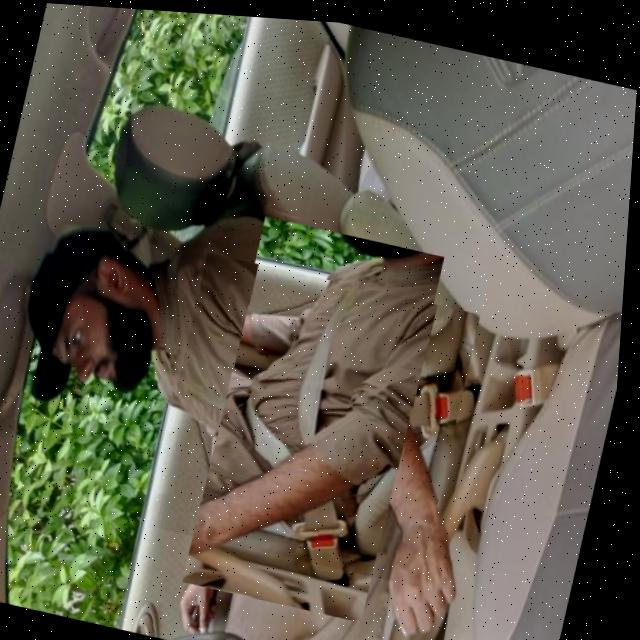seatbelt: (151, 246, 487, 582)
